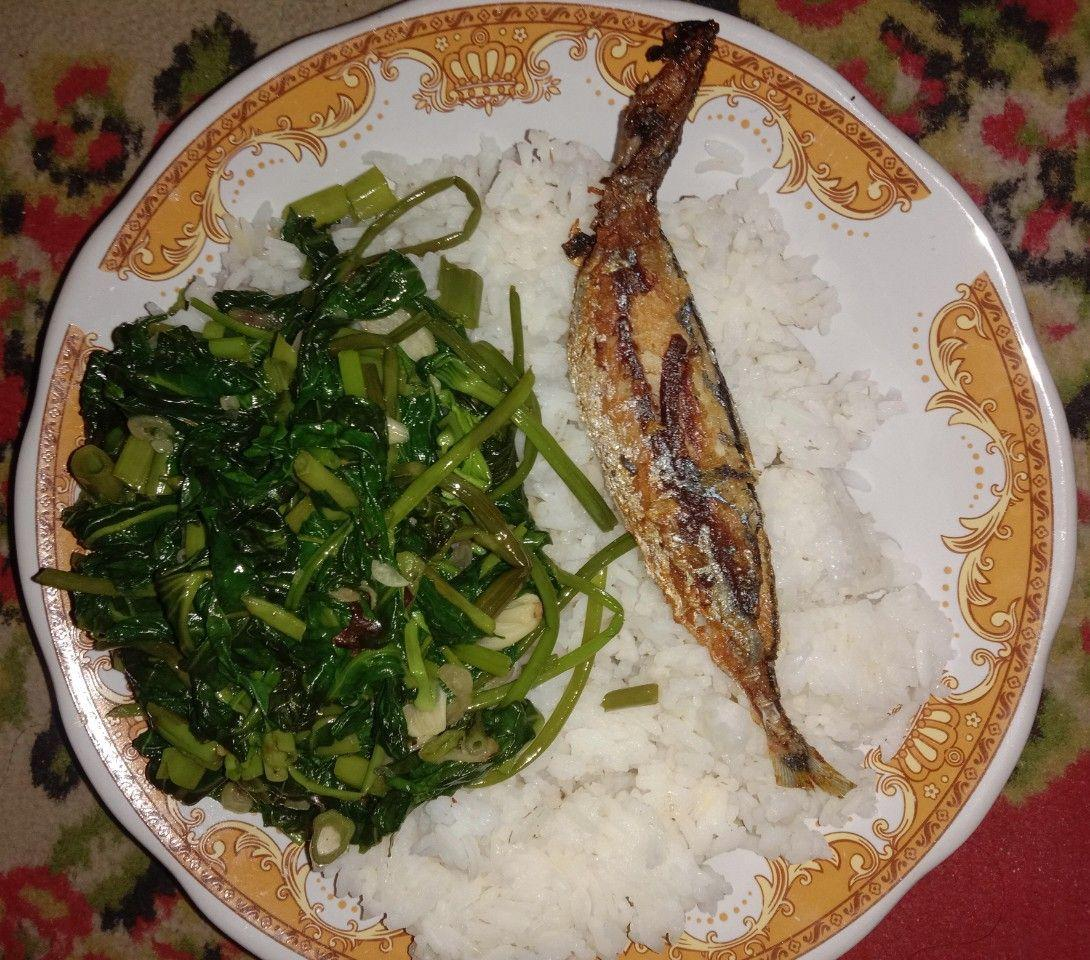buah_sayur_lainnya: (135, 318, 447, 709)
daging: (612, 273, 705, 499)
makanan_berpati: (550, 746, 714, 907)
